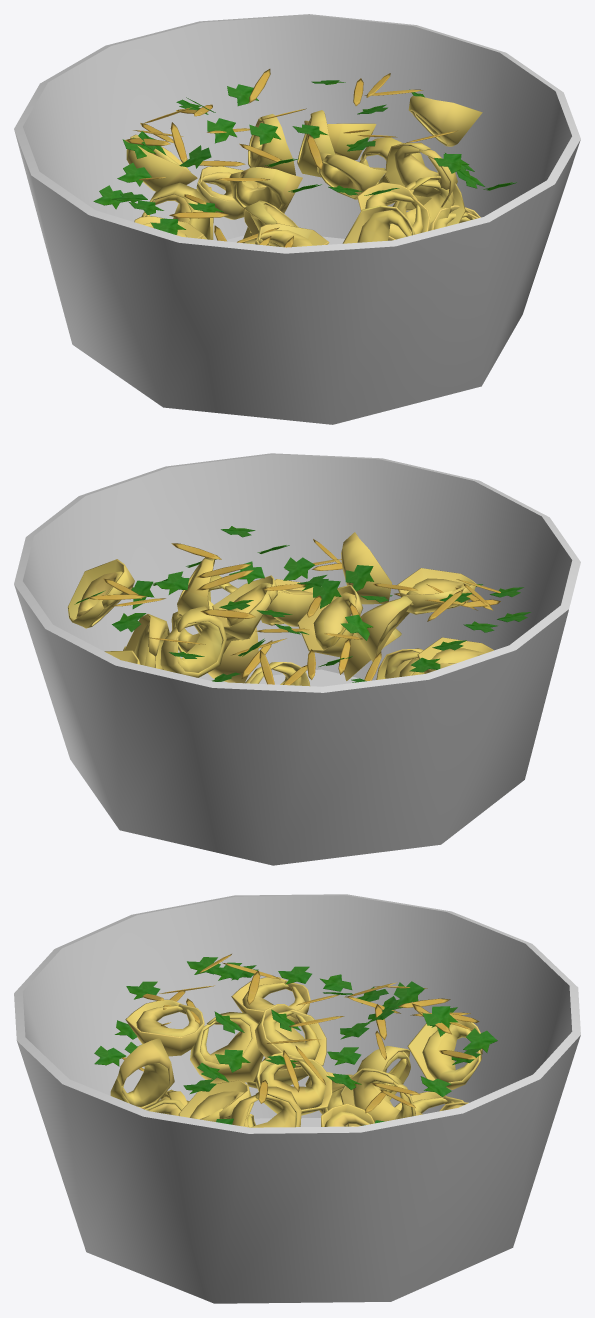
The model's file is Prato_Tortellini.fbx.
The picture shows the model from 3 angles, top to bottom: view 1: azimuth 30°, elevation 25°; view 2: azimuth 150°, elevation 25°; view 3: azimuth 270°, elevation 25°; orthographic projection.
Visible parts, largest first — view 1: Circle.016, Torus.005; view 2: Circle.016, Torus.005; view 3: Circle.016, Torus.005, Cube.220.
Part boxes in pixels (<box>): Circle.016: <box>14,14,580,424</box>; Torus.005: <box>126,96,482,247</box>; Circle.016: <box>14,453,580,865</box>; Torus.005: <box>67,532,493,686</box>; Circle.016: <box>14,894,580,1303</box>; Torus.005: <box>110,977,482,1127</box>; Cube.220: <box>422,1006,457,1036</box>.
Bounding box in the file's own units: 184 × 71.95 × 184.
2 materials, 1 textured.
